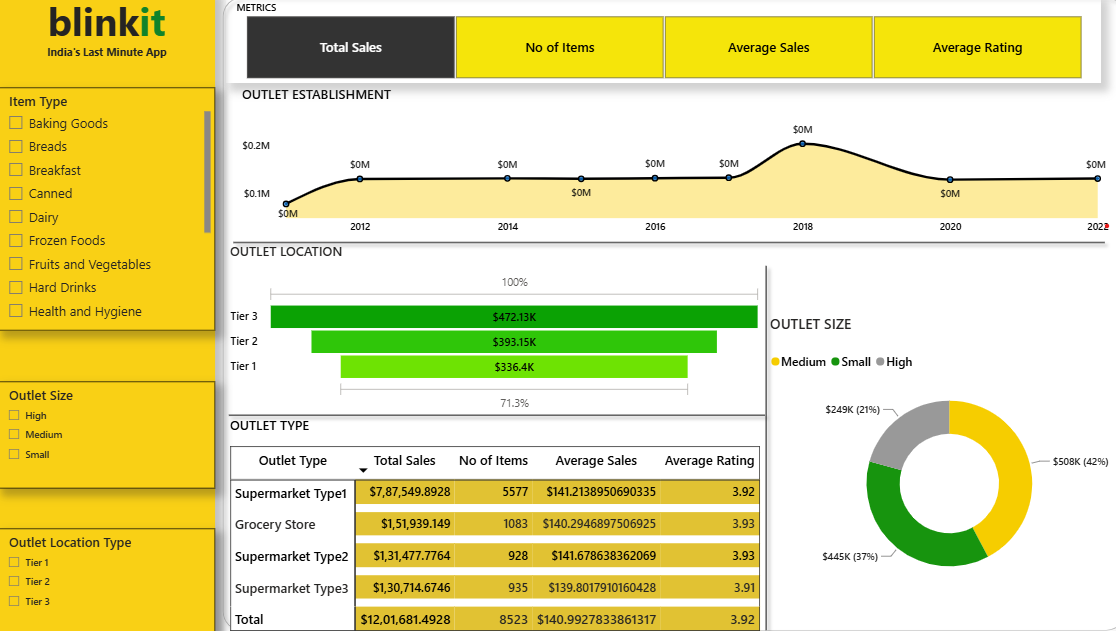

The page's visual inventory and layout, read from the dashboard file:
{"tool":"powerbi","page":{"name":"Dashboard 2","canvas":[1400,800],"ordinal":1},"visuals":[{"type":"shape","box":[0,0,268.3,801.9],"z":0},{"type":"textbox","box":[0,0,268,222],"z":1000},{"type":"textbox","box":[42,62,183.8,35.3],"z":2000},{"type":"shape","box":[268,0,1132,800],"z":3000},{"type":"lineChart","title":"OUTLET ESTABLISHMENT","fields":{"Y":["BlinkIT Grocery Data.Average Rating"],"Category":["BlinkIT Grocery Data.Outlet Establishment Year"]},"box":[296,116,1080,194],"z":4000},{"type":"slicer","fields":{"Values":["Metrics.Metrics"]},"box":[282,8,1080,108],"z":5000},{"type":"donutChart","title":"OUTLET SIZE","fields":{"Y":["BlinkIT Grocery Data.Average Rating"],"Category":["BlinkIT Grocery Data.Outlet Size"]},"box":[948,400,452,350],"z":6000},{"type":"funnel","title":"OUTLET LOCATION","fields":{"Y":["BlinkIT Grocery Data.Average Rating"],"Category":["BlinkIT Grocery Data.Outlet Location Type"]},"box":[282,312,666,214],"z":7000},{"type":"shape","box":[920,332,56,468],"z":8000},{"type":"shape","box":[282,290,1094,42],"z":9000},{"type":"shape","box":[276,500,680,50],"z":10000},{"type":"pivotTable","title":"OUTLET TYPE","fields":{"Rows":["BlinkIT Grocery Data.Outlet Type"],"Values":["BlinkIT Grocery Data.Total Sales","BlinkIT Grocery Data.No of Items","BlinkIT Grocery Data.Average Sales","BlinkIT Grocery Data.Average Rating"]},"box":[282,526,666,274],"z":11000},{"type":"slicer","fields":{"Values":["BlinkIT Grocery Data.Outlet Size"]},"box":[0,484,268,132],"z":12000},{"type":"slicer","fields":{"Values":["BlinkIT Grocery Data.Outlet Location Type"]},"box":[0,664,268,132],"z":13000},{"type":"slicer","fields":{"Values":["BlinkIT Grocery Data.Item Type"]},"box":[0,120,268,300],"z":14000}]}

Visuals, with their boxes in screenshot pixels (x1, y1, x2, y2), scaled from the page's 1400x800 canvas onto the 1116x631 screenshot:
shape: left=0, top=0, right=214, bottom=630
textbox: left=0, top=0, right=214, bottom=175
textbox: left=33, top=49, right=180, bottom=77
shape: left=214, top=0, right=1115, bottom=630
"OUTLET ESTABLISHMENT" lineChart: left=236, top=91, right=1097, bottom=245
slicer - Metrics.Metrics: left=225, top=6, right=1086, bottom=91
"OUTLET SIZE" donutChart: left=756, top=316, right=1115, bottom=592
"OUTLET LOCATION" funnel: left=225, top=246, right=756, bottom=415
shape: left=733, top=262, right=778, bottom=630
shape: left=225, top=229, right=1097, bottom=262
shape: left=220, top=394, right=762, bottom=434
"OUTLET TYPE" pivotTable: left=225, top=415, right=756, bottom=630
slicer - BlinkIT Grocery Data.Outlet Size: left=0, top=382, right=214, bottom=486
slicer - BlinkIT Grocery Data.Outlet Location Type: left=0, top=524, right=214, bottom=628
slicer - BlinkIT Grocery Data.Item Type: left=0, top=95, right=214, bottom=331
